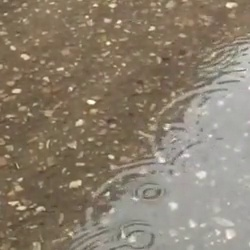drop: (168, 138, 222, 176), (64, 224, 113, 250), (117, 220, 155, 250), (134, 182, 166, 202)
